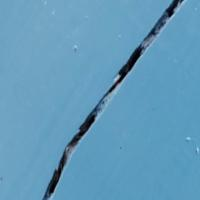crack: (37, 0, 181, 198)
